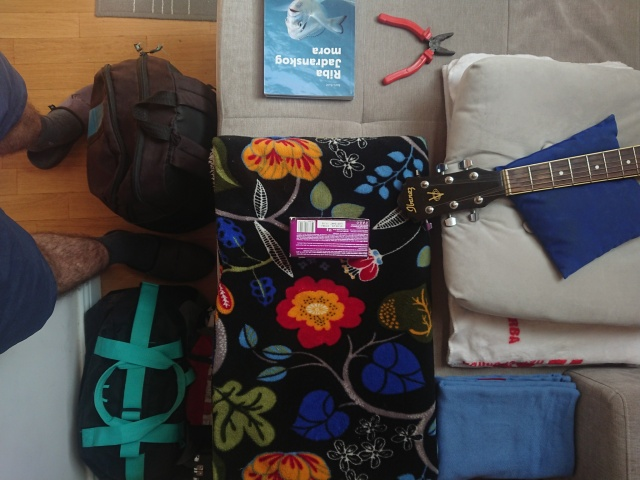Franck Black Currant Tea 60g: (286, 214, 373, 262)
